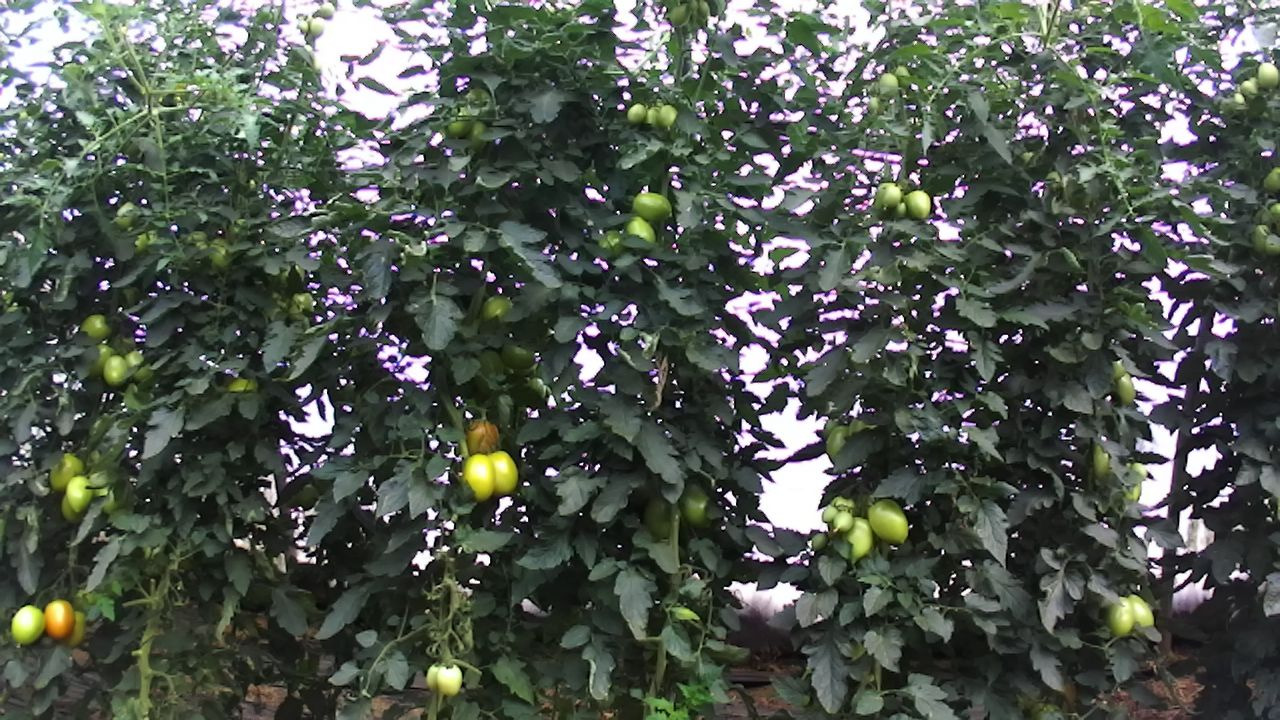tomato: (674, 475, 720, 533), (866, 496, 910, 546), (462, 451, 497, 505), (8, 602, 47, 647), (464, 417, 503, 460), (487, 448, 520, 498), (46, 451, 85, 493), (42, 597, 76, 643), (1104, 592, 1136, 640), (1124, 588, 1158, 631), (631, 191, 674, 224), (63, 473, 95, 515), (497, 339, 538, 370), (78, 310, 115, 344), (903, 187, 932, 221), (436, 662, 463, 698), (101, 354, 129, 388), (1255, 60, 1280, 91), (878, 181, 904, 210), (830, 509, 855, 533), (809, 529, 832, 554), (625, 101, 647, 124)
